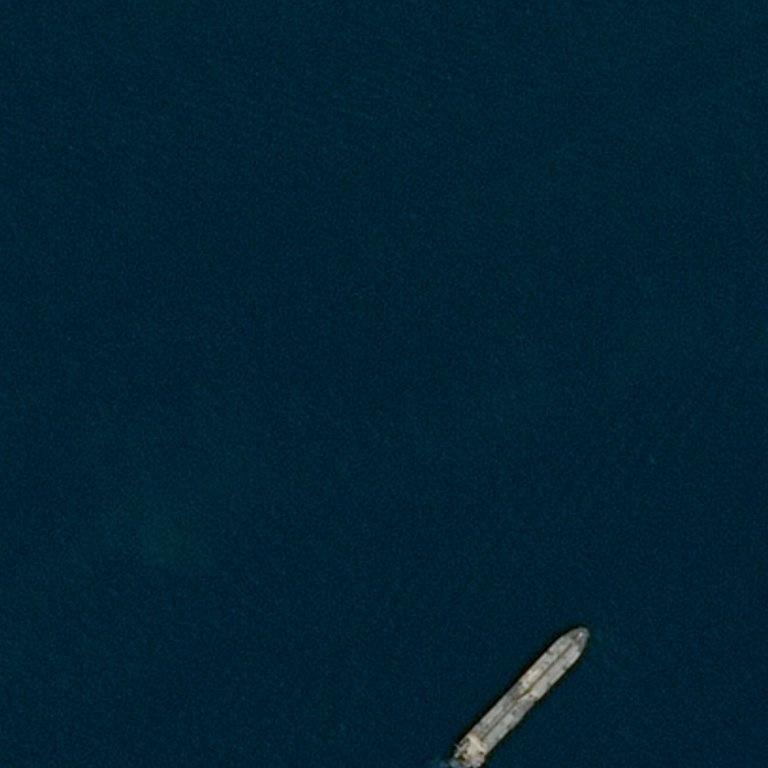ship: (440, 653, 600, 730), (449, 747, 458, 758), (582, 627, 589, 634), (466, 759, 473, 766)
